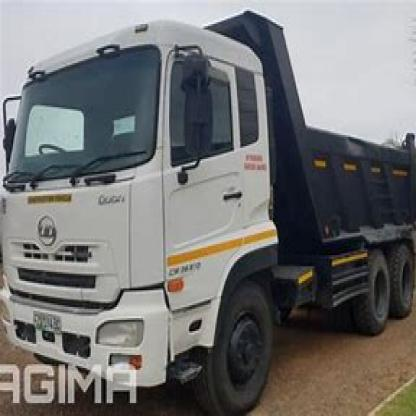dump_truck: (9, 7, 414, 403)
